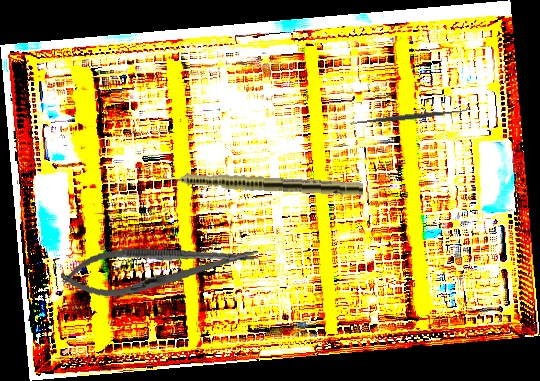Handpiece: (145, 168, 364, 197)
Needle Holder: (58, 232, 262, 304)
Spatula Surgical: (349, 103, 470, 130)
